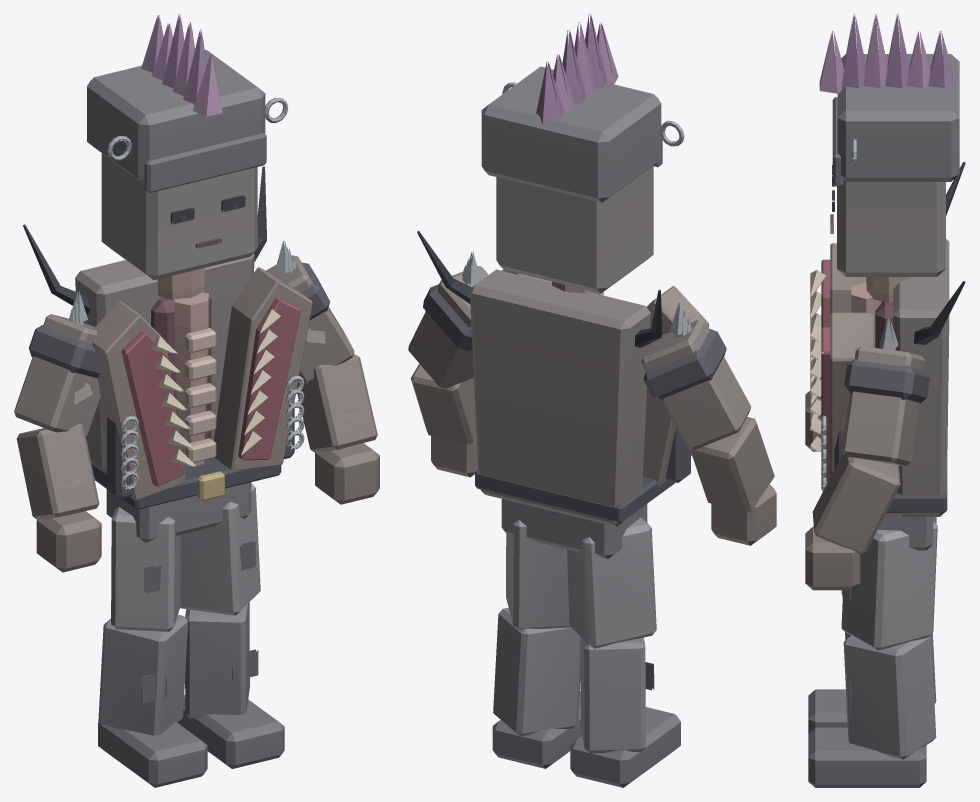
Rendered from AssimilatedAdventurerPunk.glb.
The picture shows the model from 3 angles, left to right: view 1: azimuth 30°, elevation 25°; view 2: azimuth 150°, elevation 25°; view 3: azimuth 270°, elevation 25°; orthographic projection. The views are drawn at different scales.
Parts seen in each view (by area): view 1: Body, Head, LegR, LegL, ArmR, ArmL, TendrilR, TendrilL; view 2: Body, Head, LegR, LegL, ArmR, ArmL, TendrilL, TendrilR; view 3: Head, LegL, Body, ArmL, LegR, TendrilL, ArmR.
Part boxes in pixels (left/top/right/bottom): Body: left=75, top=253, right=312, bottom=542; Head: left=87, top=14, right=288, bottom=300; LegR: left=98, top=507, right=207, bottom=787; LegL: left=177, top=483, right=284, bottom=768; ArmR: left=14, top=291, right=106, bottom=572; ArmL: left=266, top=241, right=379, bottom=504; TendrilR: left=23, top=224, right=90, bottom=314; TendrilL: left=253, top=166, right=266, bottom=262; Body: left=469, top=269, right=709, bottom=559; Head: left=481, top=14, right=684, bottom=294; LegR: left=567, top=518, right=680, bottom=787; LegL: left=492, top=520, right=582, bottom=768; ArmR: left=641, top=302, right=776, bottom=545; ArmL: left=408, top=251, right=488, bottom=477; TendrilL: left=417, top=231, right=471, bottom=303; TendrilR: left=634, top=289, right=662, bottom=347; Head: left=819, top=14, right=959, bottom=302; LegL: left=808, top=522, right=937, bottom=787; Body: left=810, top=239, right=949, bottom=550; ArmL: left=805, top=316, right=929, bottom=590; LegR: left=808, top=517, right=936, bottom=733; TendrilL: left=914, top=281, right=965, bottom=344; ArmR: left=805, top=377, right=821, bottom=451.
Size of the model in its own units: 3.24 by 6.86 by 1.34.
